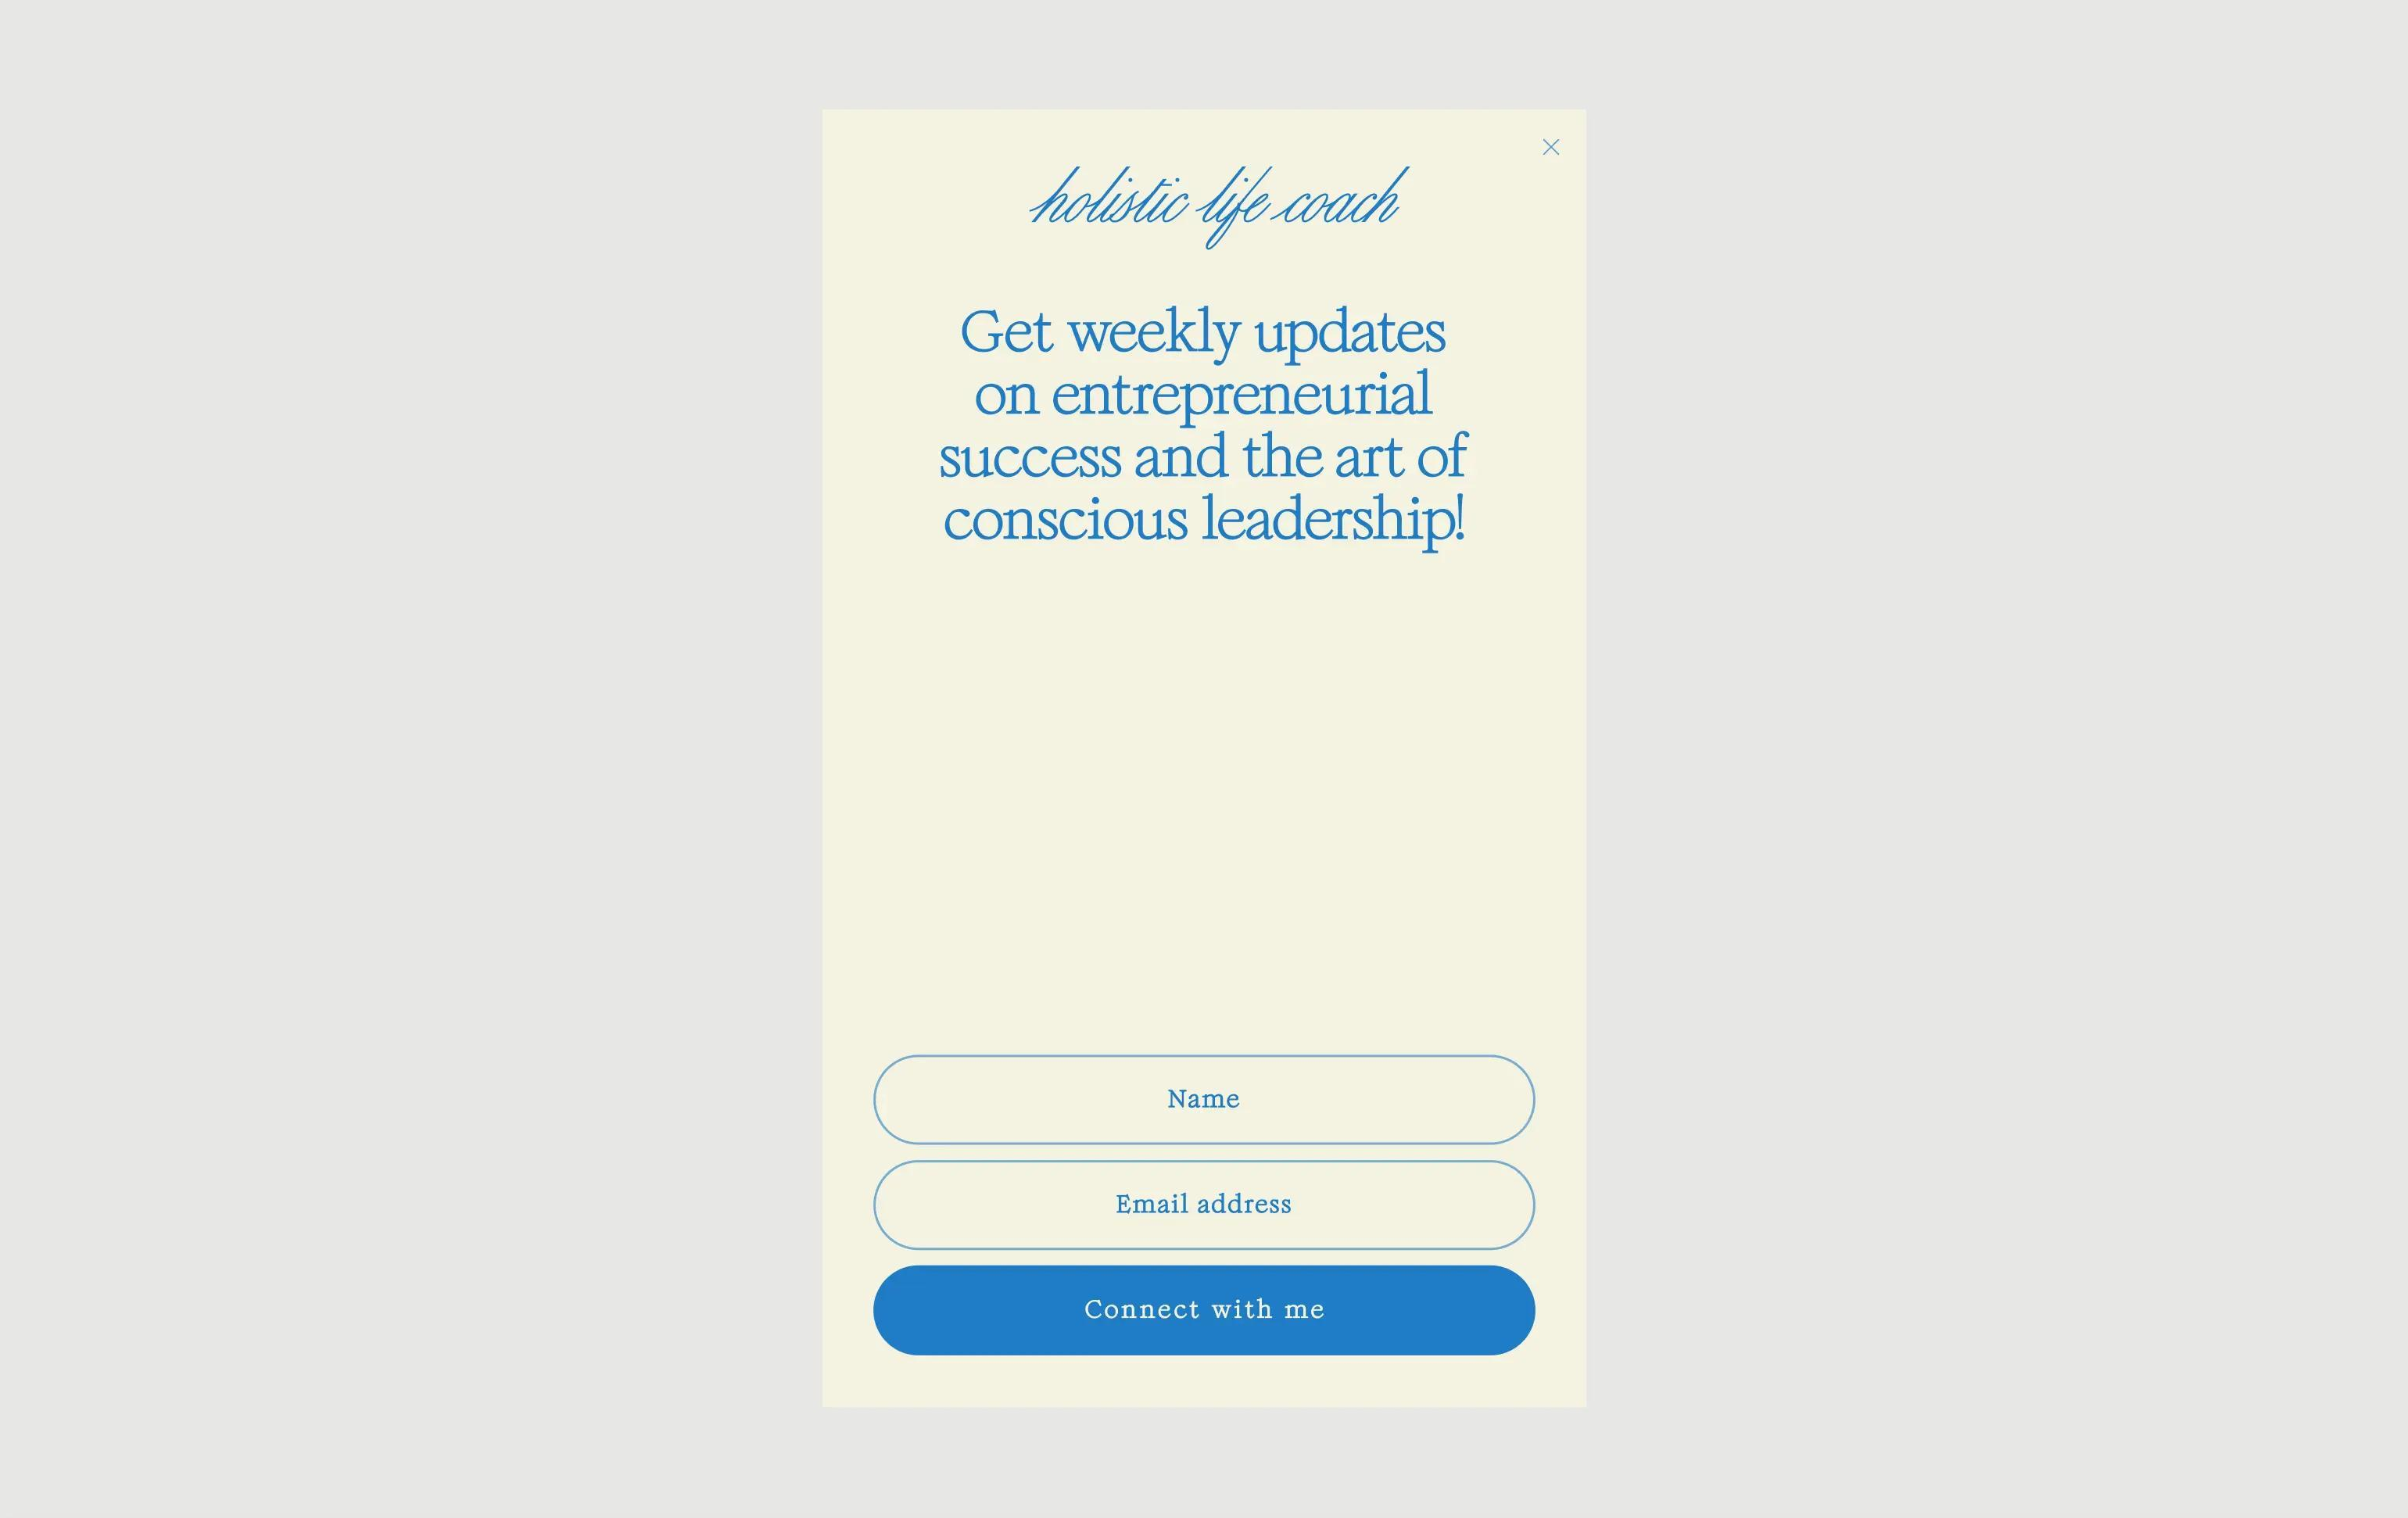button: (874, 1263, 1537, 1357), (873, 1055, 1542, 1145), (874, 1159, 1535, 1250)
